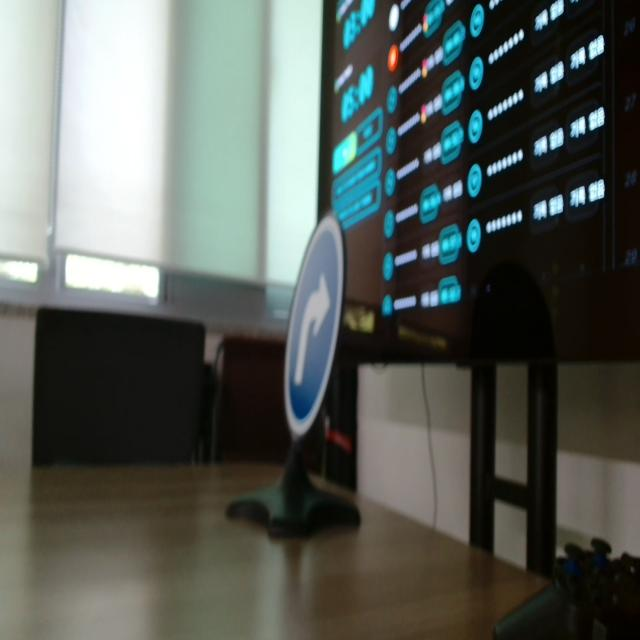right_dierection: (278, 203, 346, 435)
